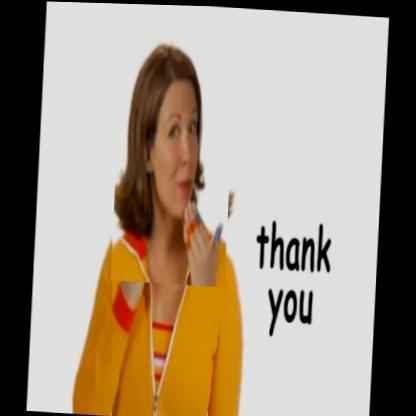ThankYou: (112, 35, 237, 287)
